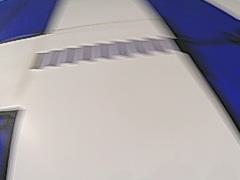CrossWalk: (24, 31, 182, 71)
